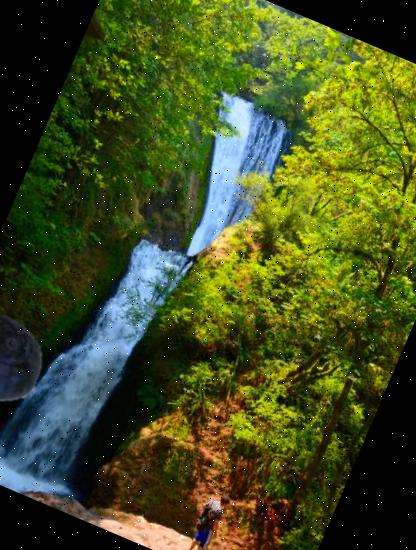Blueberry: (0, 302, 57, 420)
